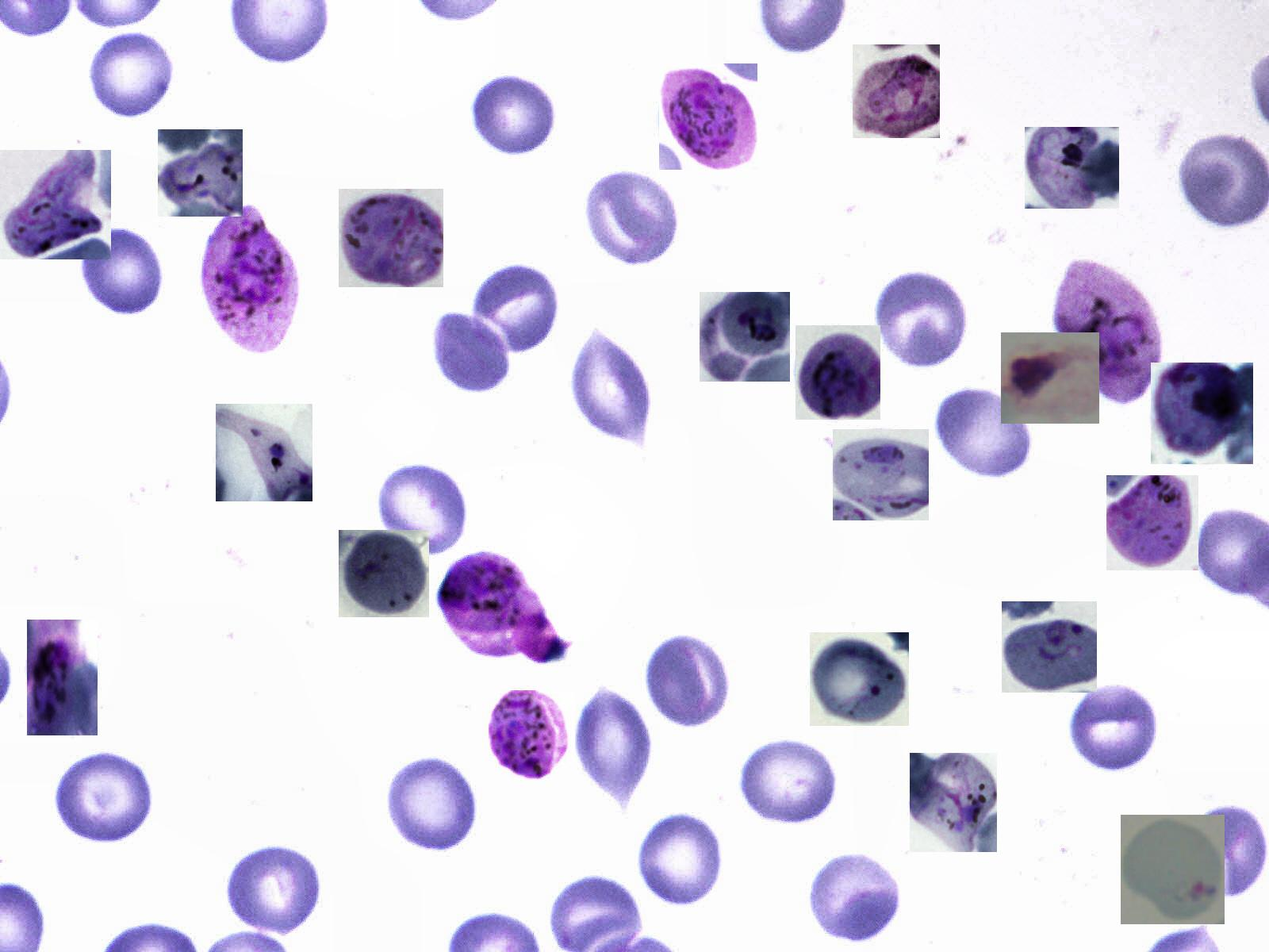Infected: (1055, 254, 1157, 404), (201, 205, 301, 356), (0, 150, 111, 259), (1121, 815, 1225, 924), (437, 549, 539, 658), (659, 63, 757, 170), (1151, 363, 1253, 464), (339, 189, 443, 287), (216, 404, 312, 501), (810, 633, 909, 727), (1001, 332, 1099, 424), (1002, 601, 1097, 693), (1106, 475, 1198, 570), (833, 429, 929, 520), (910, 753, 997, 852), (853, 44, 940, 138), (27, 620, 98, 735), (700, 293, 790, 382), (796, 325, 880, 420), (339, 530, 430, 617), (489, 690, 575, 780), (1025, 127, 1119, 209), (159, 129, 243, 217)
Uninfected: (567, 322, 650, 442), (876, 267, 971, 370), (808, 848, 907, 946), (374, 460, 471, 559), (223, 842, 327, 934), (1065, 678, 1165, 773), (386, 754, 481, 854), (934, 385, 1035, 479), (740, 735, 842, 825), (1177, 801, 1268, 901), (54, 752, 154, 843), (587, 170, 681, 266), (79, 224, 171, 319), (643, 631, 732, 729), (574, 688, 654, 797), (638, 815, 727, 905), (474, 260, 554, 360), (430, 305, 514, 393), (90, 30, 174, 118), (477, 72, 557, 157)
